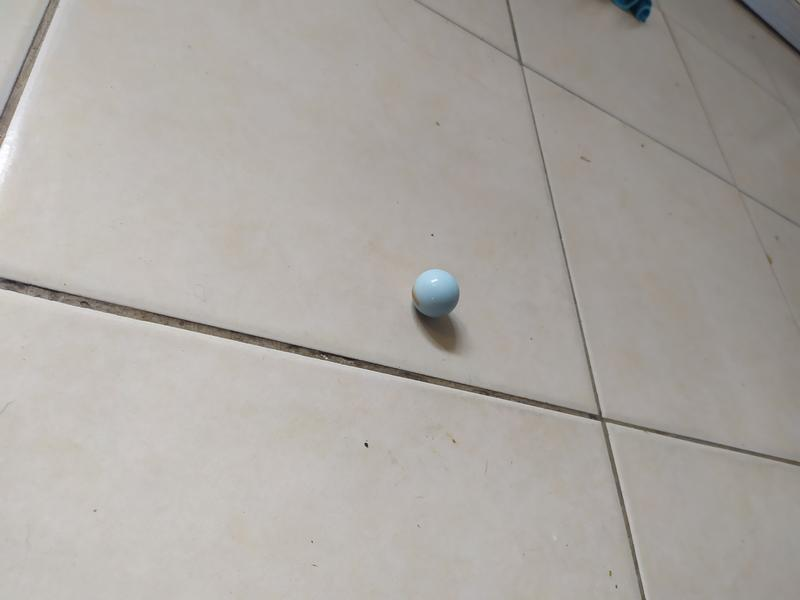Warning: (409, 267, 463, 320)
